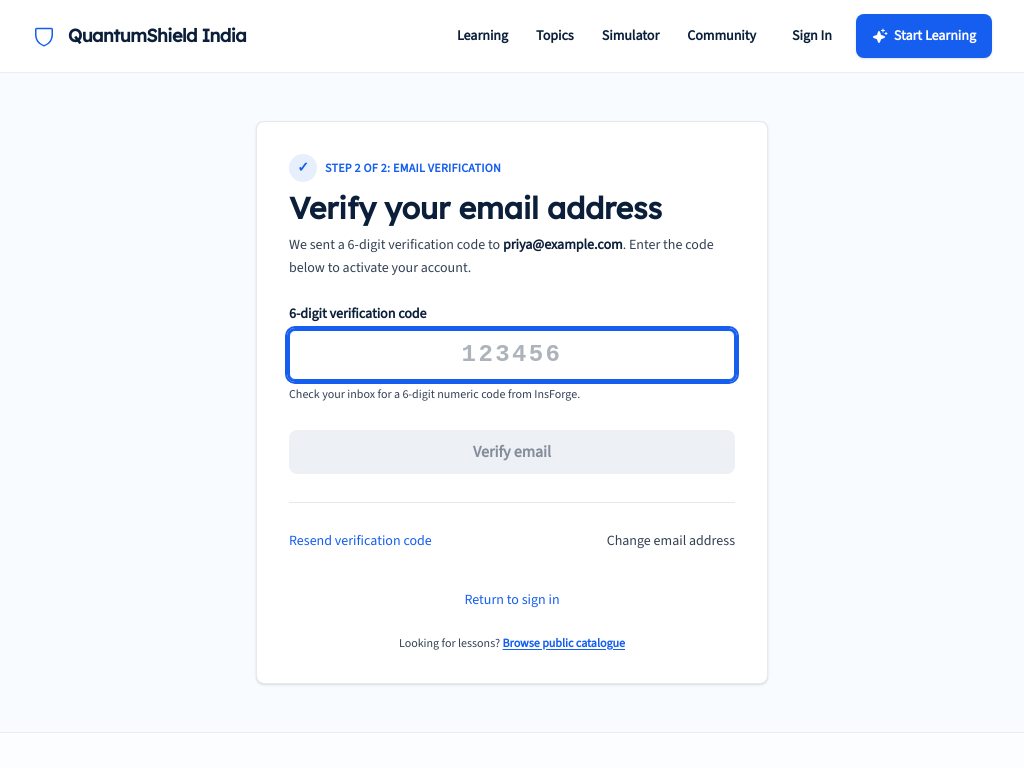
Scenario: InsForge Registration and Email OTP Verification Flow › handles resending verification code with cooldown state
The width and height of the screenshot is (1024, 768).
Click the button "Resend verification code": point(360, 540) [289,518,432,562]
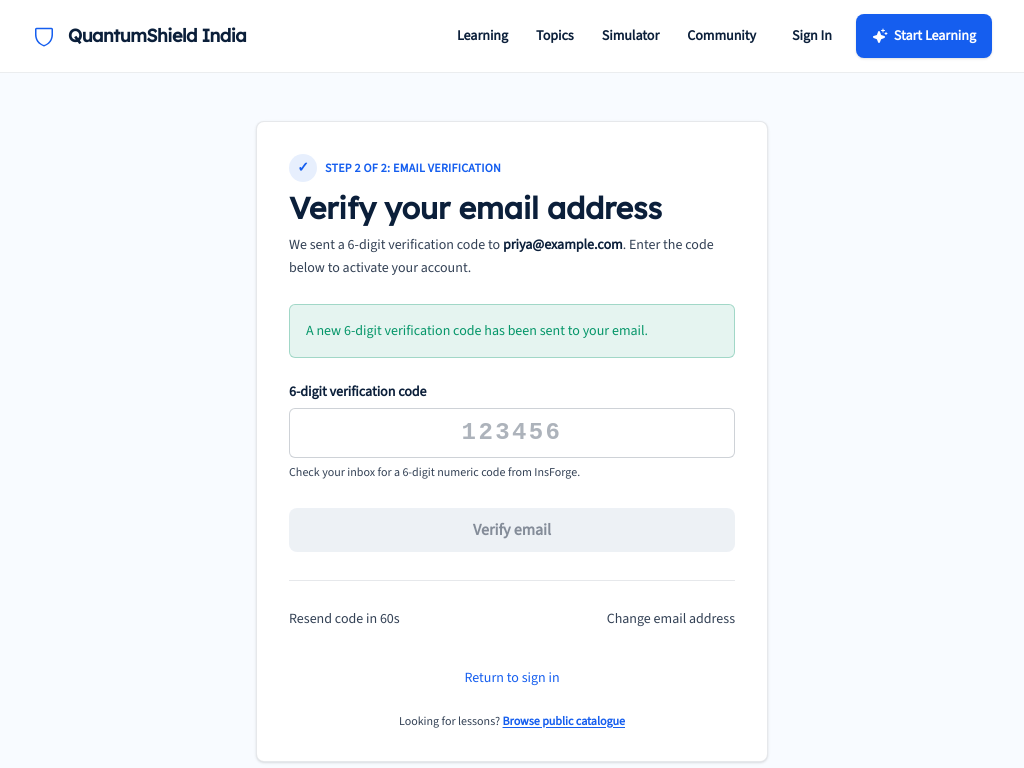
Check: the text "A new 6-digit verification code has been sent to your email." is shown, box [306,320,648,340]
Check: the button "Resend code in 60s" is disabled, box [289,596,400,640]
